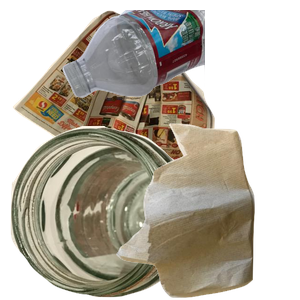glass: (10, 126, 220, 300)
paper: (10, 10, 217, 189)
plastic: (60, 10, 300, 100)
trash: (114, 121, 300, 300)
